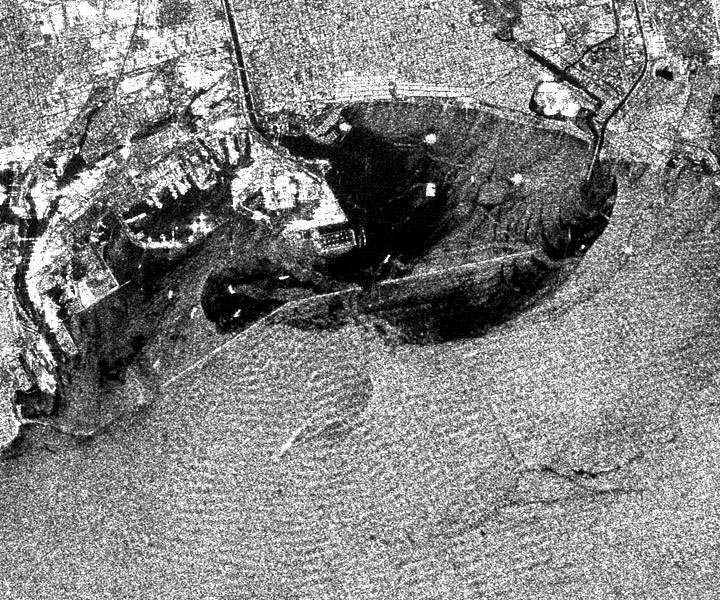anomaly: (203, 122, 628, 346)
